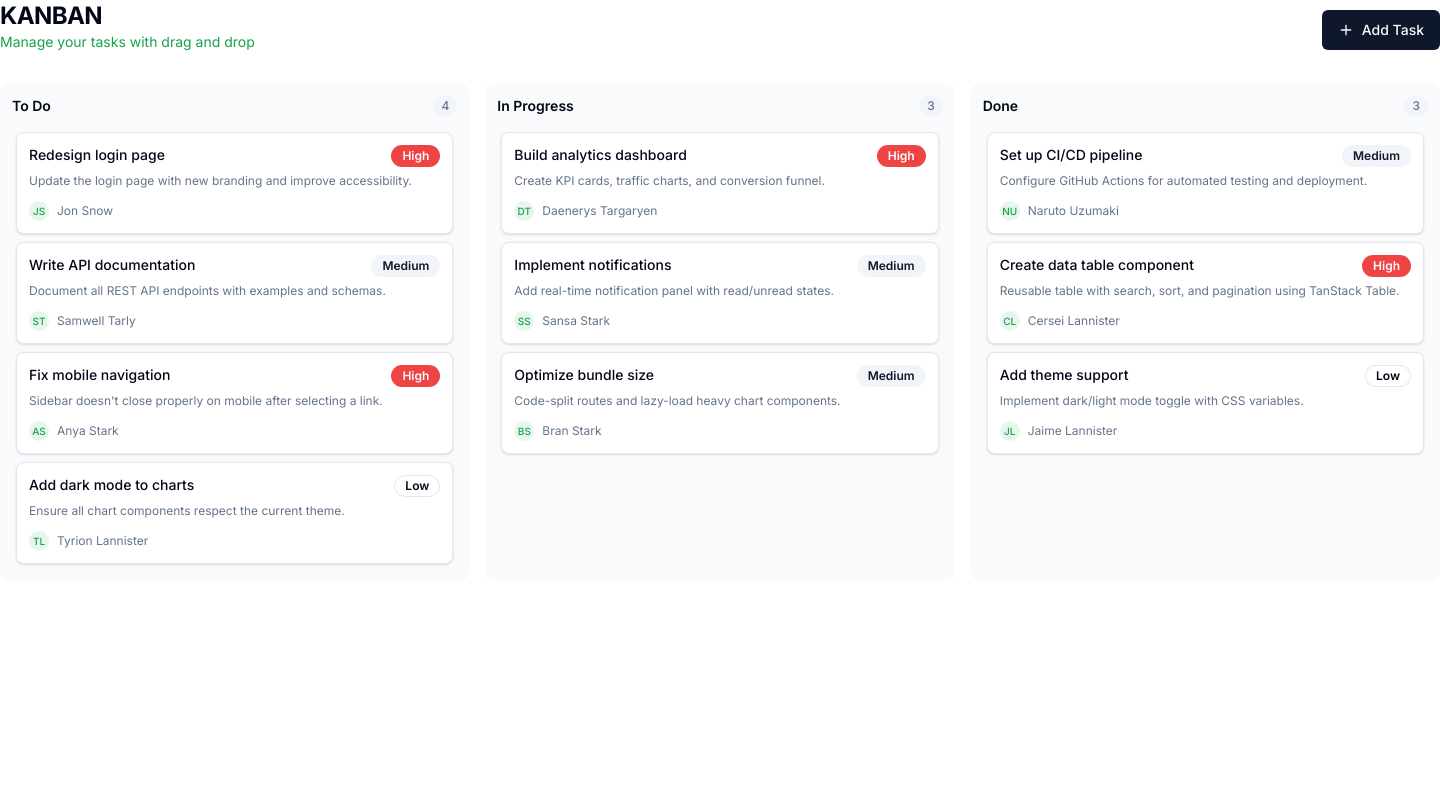
KanbanPage › creates a task and closes the dialog
Click the button "Add Task".
click(1381, 30)  # box [1322,10,1439,50]
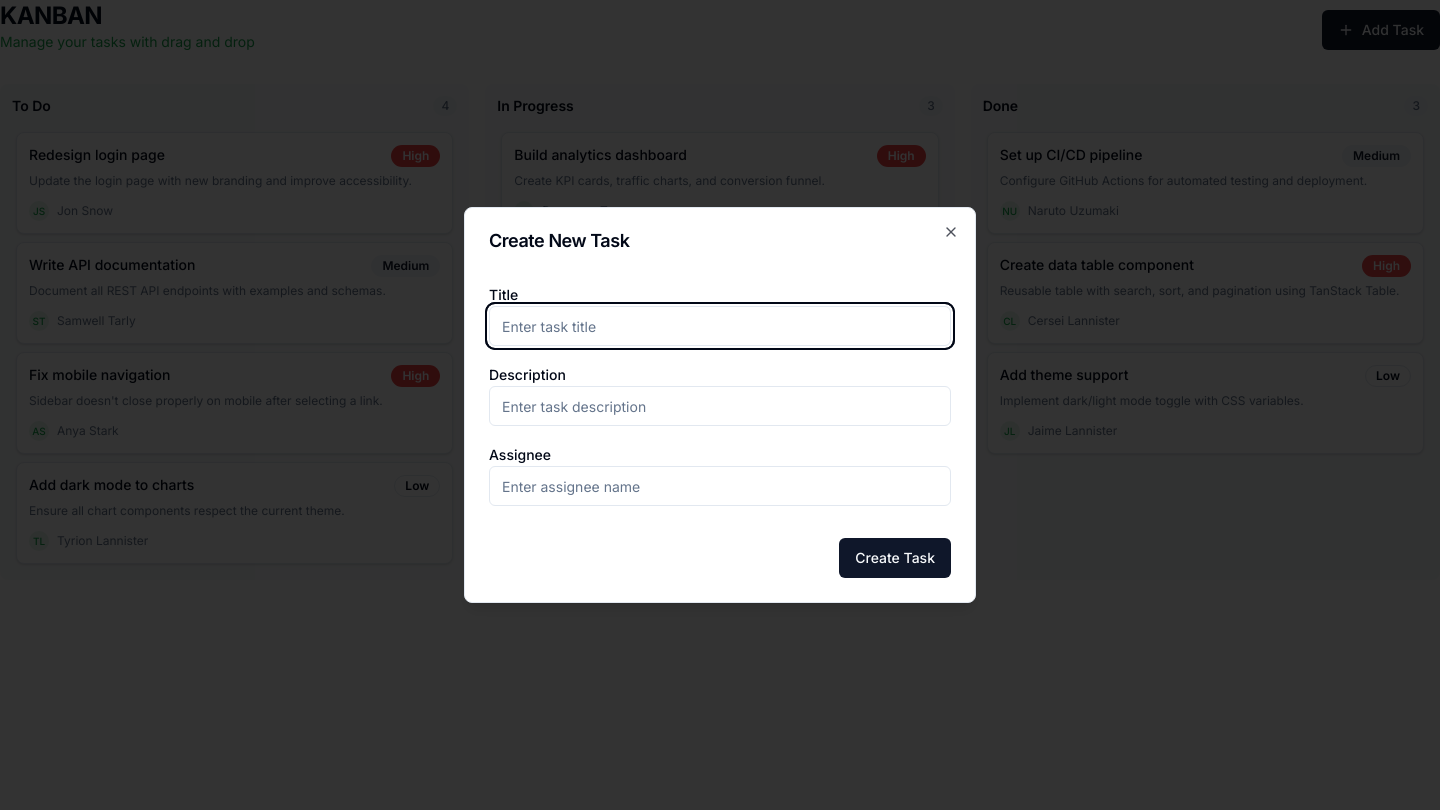
Type "Write release notes" into the field labelled "Title".
click(720, 326); type("Write release notes")  # box [489,306,951,346]
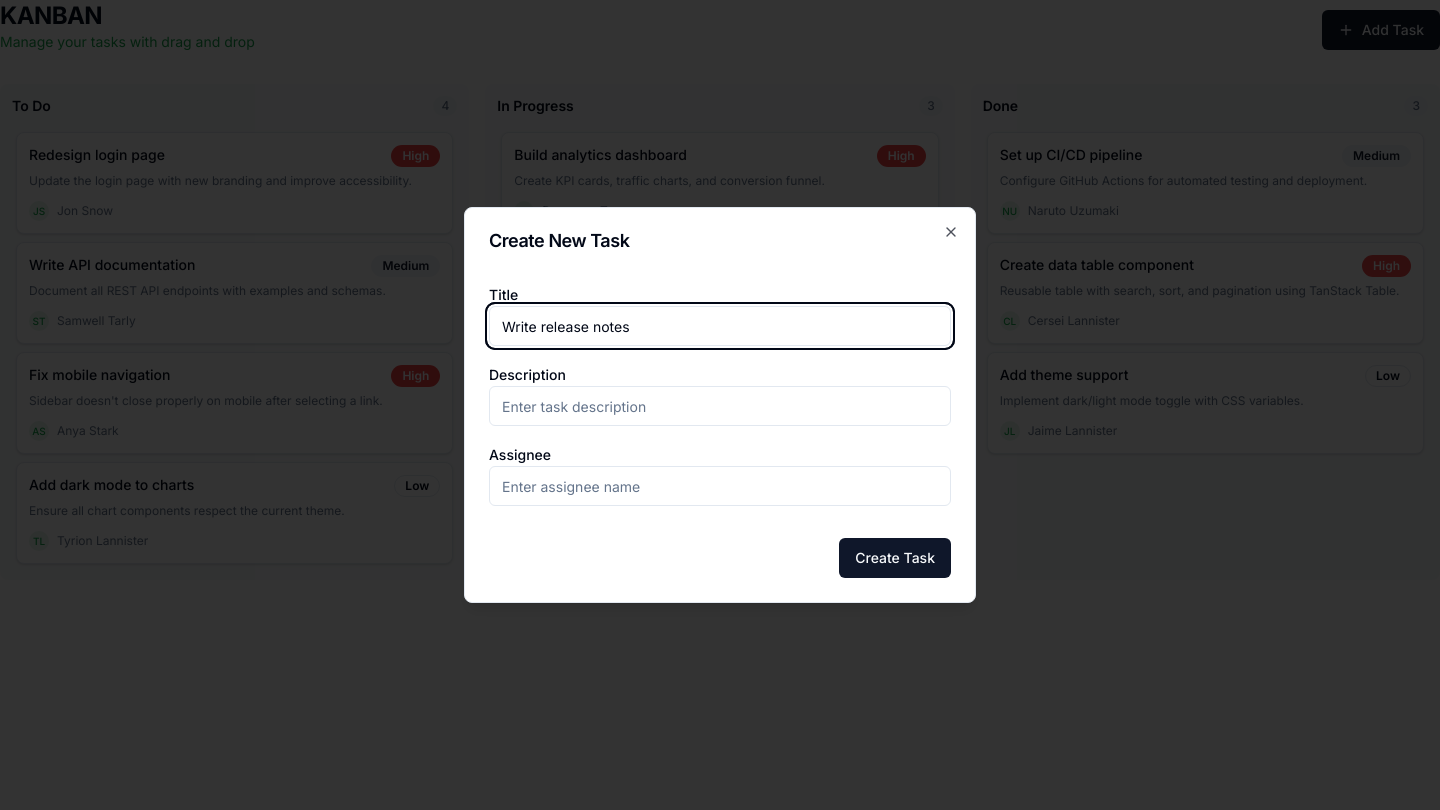
Type "Summarize the changelog" into the field labelled "Description".
click(720, 406); type("Summarize the changelog")  # box [489,386,951,426]
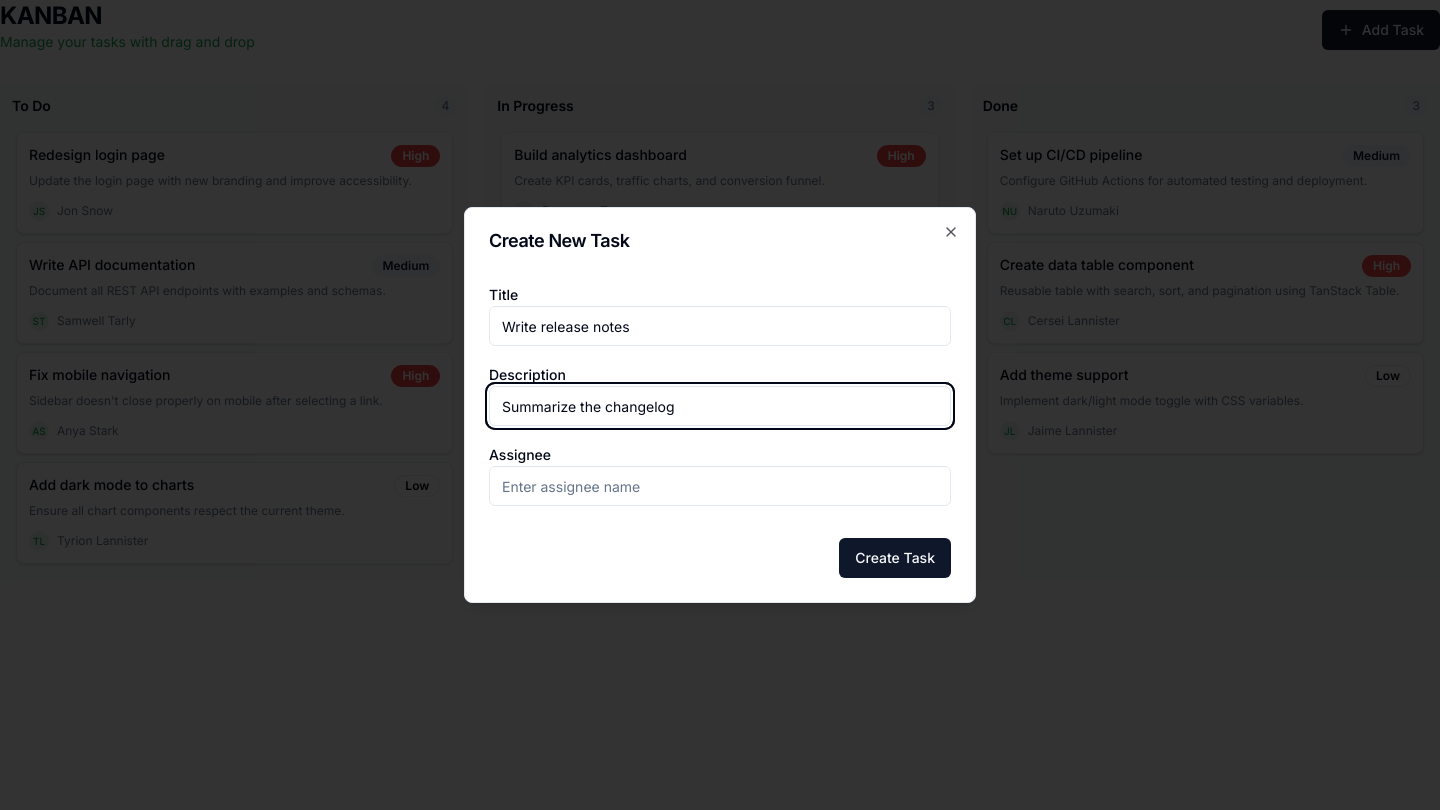
Type "Arya" into the field labelled "Assignee".
click(720, 486); type("Arya")  # box [489,466,951,506]
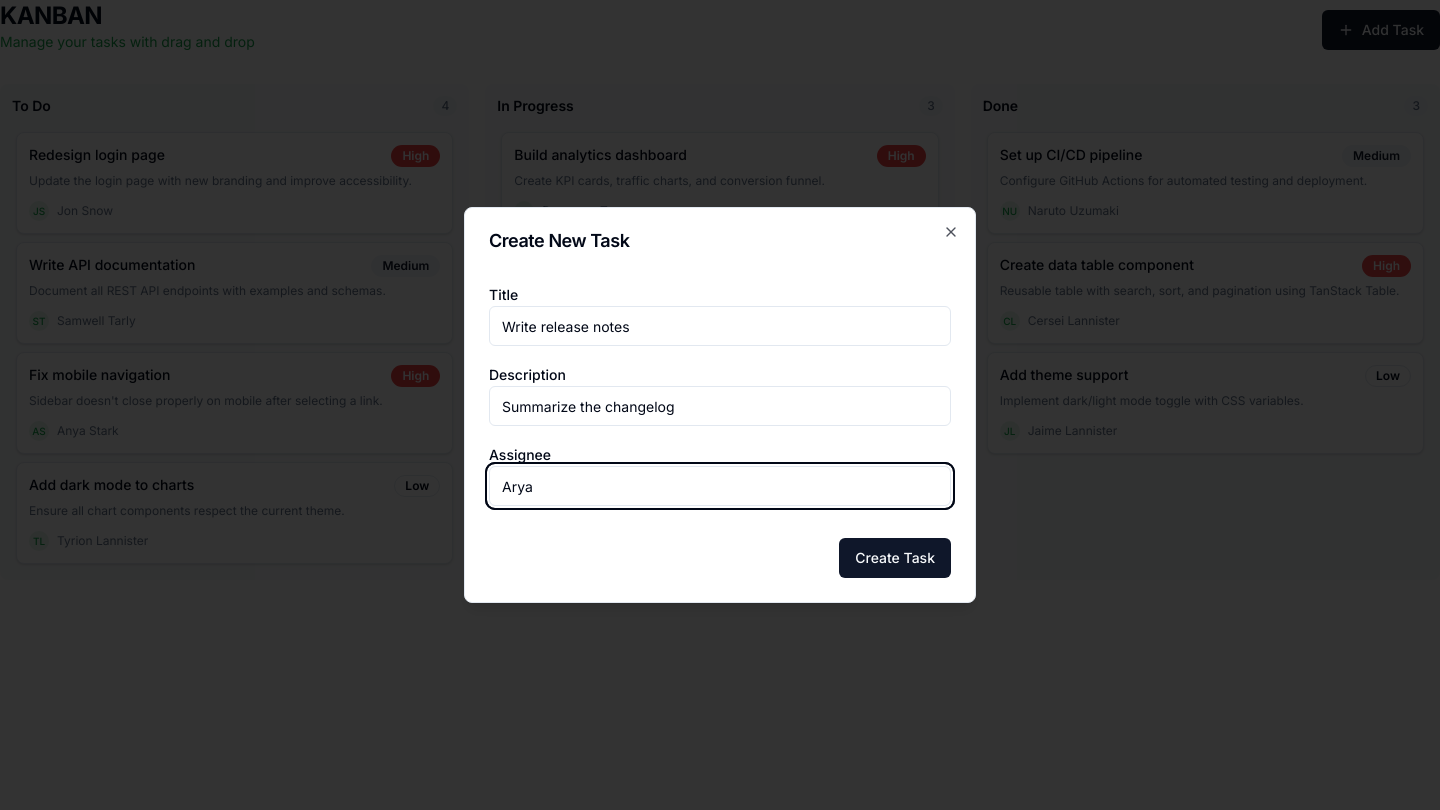
Click the button "Create Task".
click(895, 558)  # box [839,538,951,578]
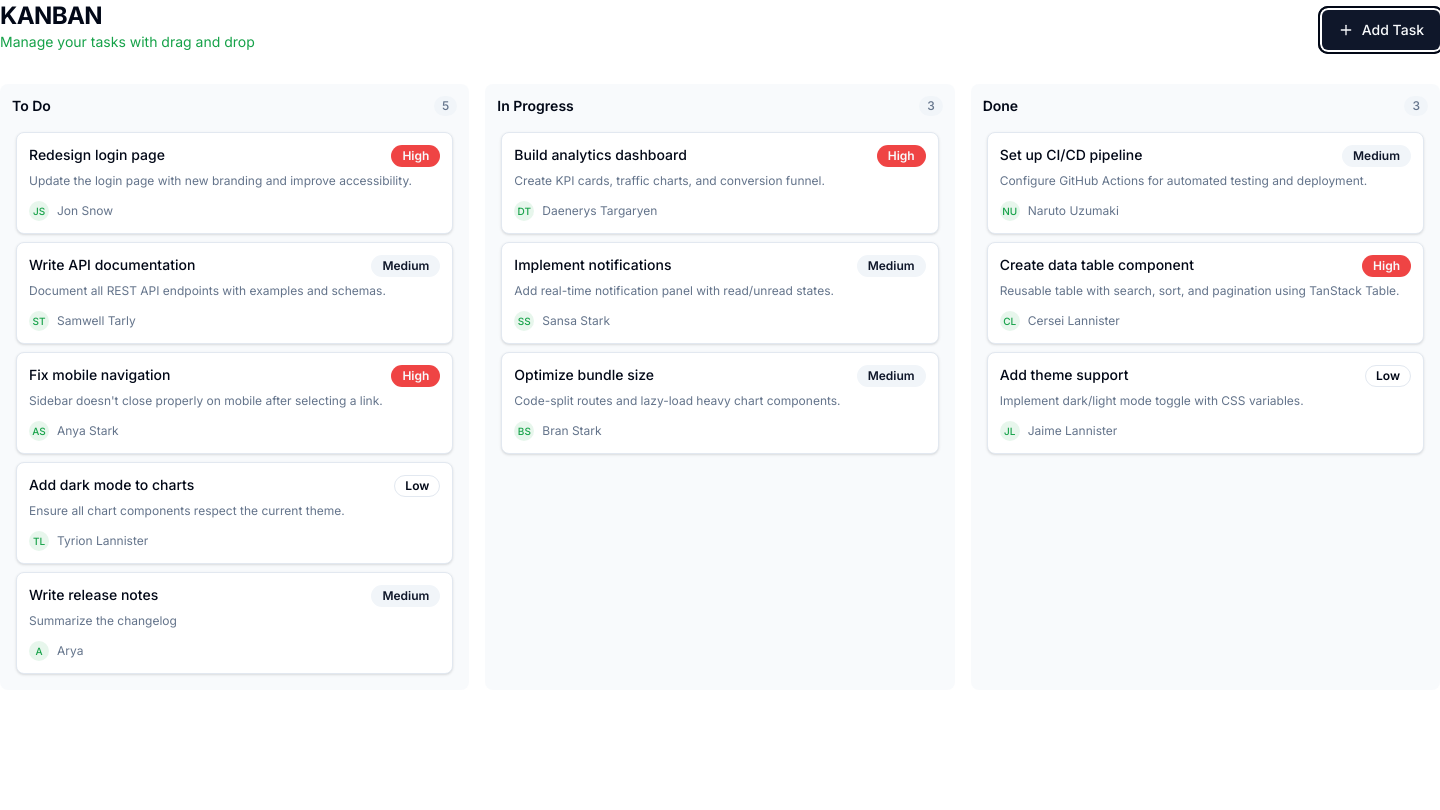
expect the heading "Create New Task" is gone: met
expect the heading "Write release notes" is shown: met, box [29,585,158,604]
